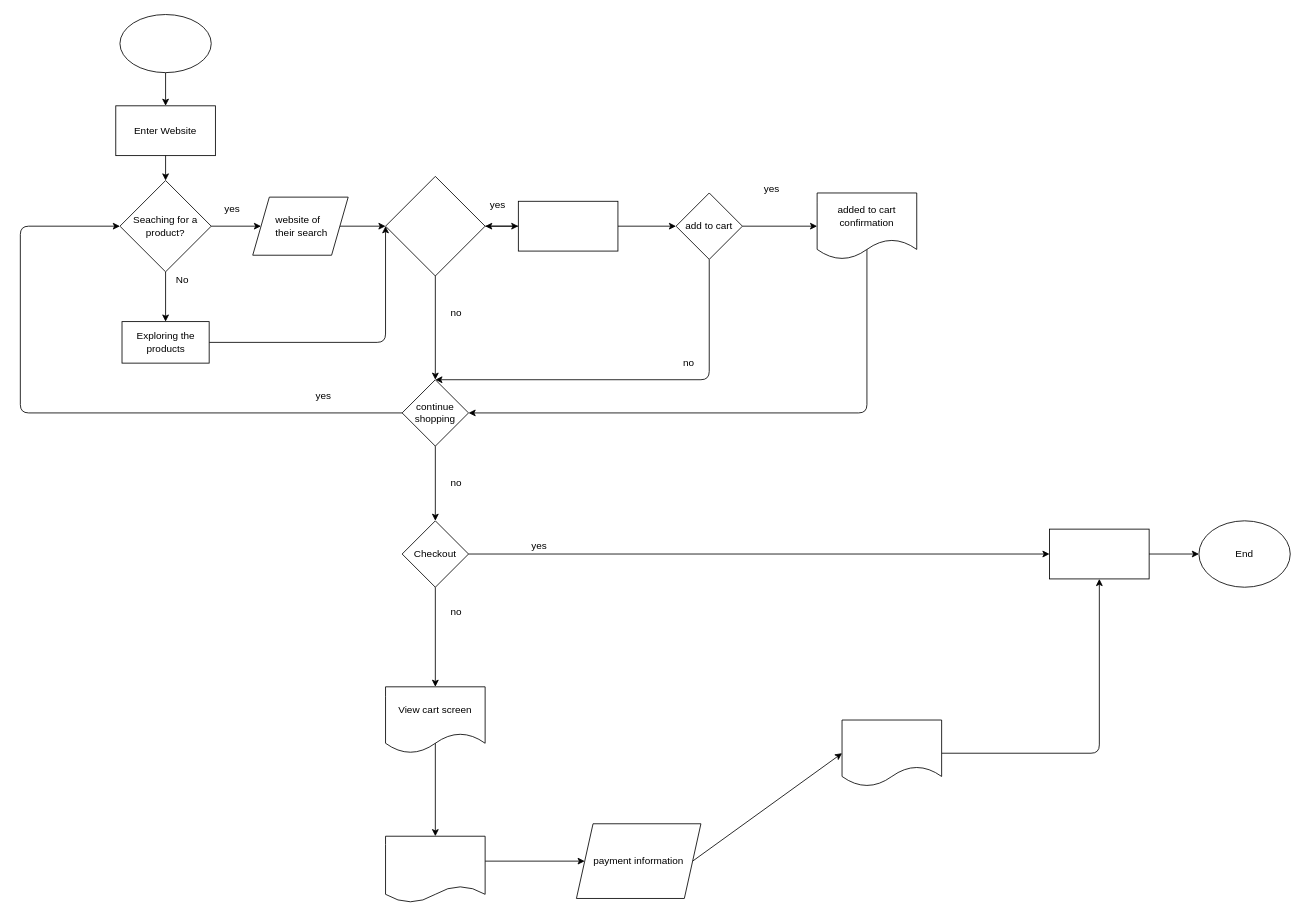
Image size: 1305x917. Some labels were removed from this diagram. Here are the shapes that lost their labels. From the top down, the box of each, then its label:
(119, 14, 211, 73): Start
(385, 176, 485, 276): Viewing specific product
(518, 200, 618, 251): Webpage open
(1049, 528, 1149, 579): leave website
(841, 719, 942, 786): order confirmation screen and Email
(385, 835, 485, 903): View payment screen
